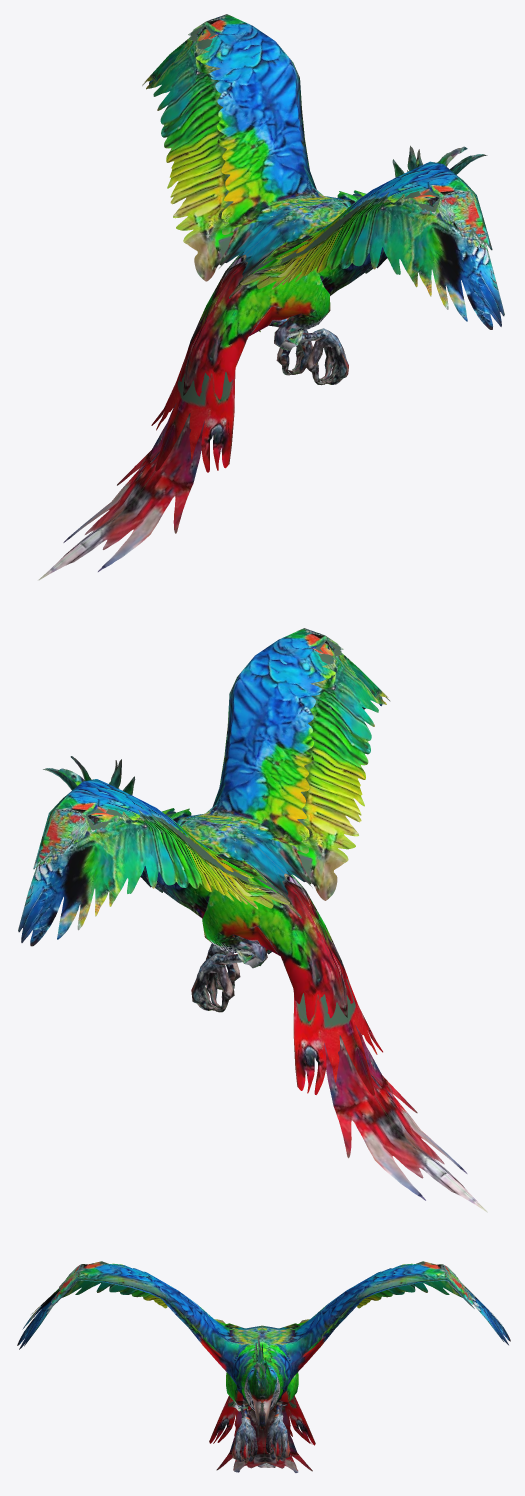
Rendered from parrot_ai.glb.
3 views of the same model, one above another, from view 1: azimuth 30°, elevation 25°; view 2: azimuth 150°, elevation 25°; view 3: azimuth 270°, elevation 25° (orthographic). The views are drawn at different scales.
Visible parts, largest first — view 1: U3DMeshShape_0; view 2: U3DMeshShape_0; view 3: U3DMeshShape_0.
Boxes of the visible parts, x1=… form: U3DMeshShape_0: x1=38, y1=14, x2=504, y2=580; U3DMeshShape_0: x1=18, y1=628, x2=487, y2=1212; U3DMeshShape_0: x1=17, y1=1261, x2=510, y2=1472.
Bounding box in the file's own units: 179746 × 154230 × 216943.
1 material, 1 textured.
